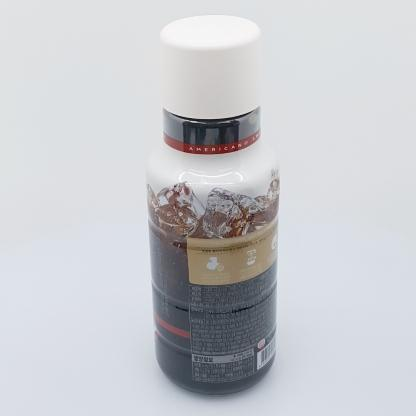--------------1-1L: (145, 15, 280, 396)
